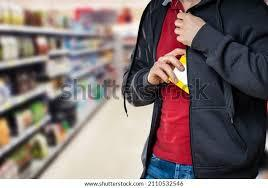shoplifting: (120, 7, 255, 131)
